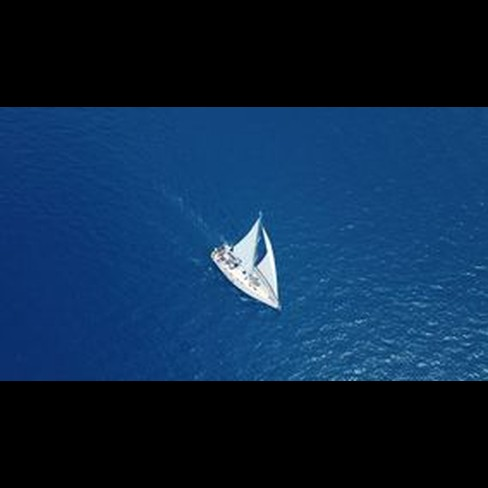boat: (204, 207, 289, 316)
